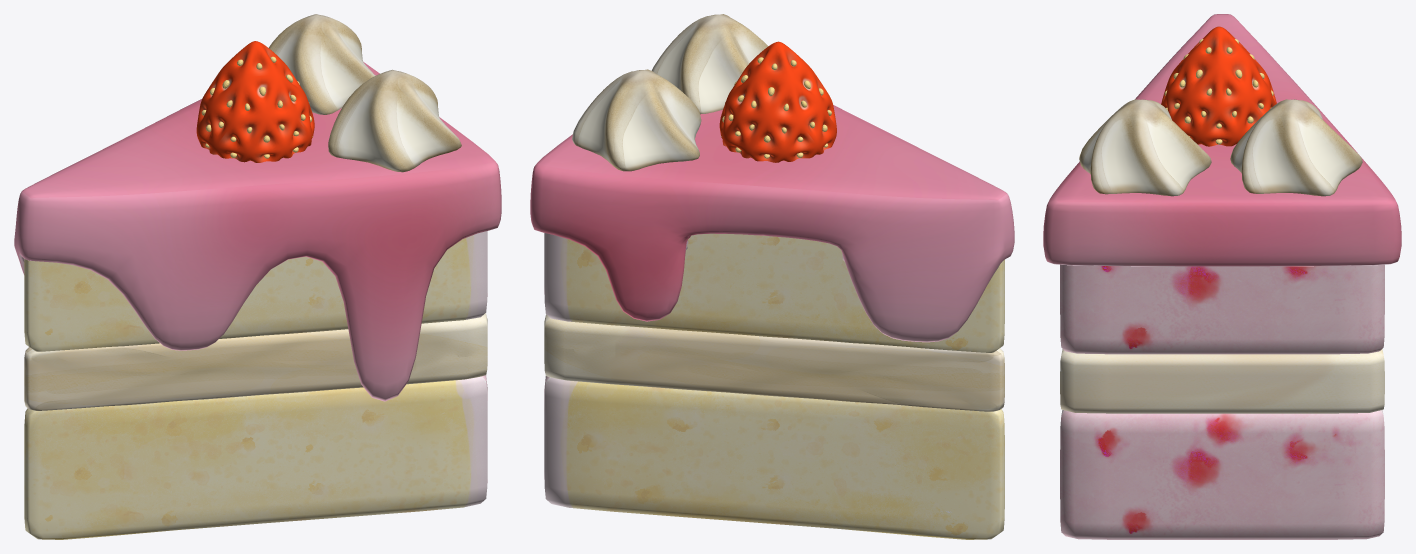
The model's file is straeberrycreamcake.glb.
The picture shows the model from 3 angles, left to right: view 1: azimuth 30°, elevation 25°; view 2: azimuth 150°, elevation 25°; view 3: azimuth 270°, elevation 25°; orthographic projection.
Parts seen in each view (by area): view 1: 立方體.003, 立方體, 立方體.001, 立方體.004, Ico 球體, Star.001, Star.002, Ico 球體.001; view 2: 立方體.003, 立方體, 立方體.001, 立方體.004, Ico 球體, Star.002, Star.001, Ico 球體.001; view 3: 立方體, 立方體.003, 立方體.004, 立方體.001, Star.001, Star.002, Ico 球體, Ico 球體.001.
Boxes of the visible parts, <box> form: 立方體.003: <box>14,62,501,401</box>; 立方體: <box>24,375,487,539</box>; 立方體.001: <box>24,313,487,410</box>; 立方體.004: <box>24,231,487,351</box>; Ico 球體: <box>196,41,314,162</box>; Star.001: <box>328,69,461,172</box>; Star.002: <box>269,14,375,114</box>; Ico 球體.001: <box>201,56,312,158</box>; 立方體.003: <box>530,105,1014,342</box>; 立方體: <box>544,376,1004,539</box>; 立方體.001: <box>544,314,1004,411</box>; 立方體.004: <box>544,233,1004,352</box>; Ico 球體: <box>719,41,836,162</box>; Star.002: <box>572,69,701,171</box>; Star.001: <box>651,14,768,114</box>; Ico 球體.001: <box>721,57,835,158</box>; 立方體: <box>1060,410,1384,539</box>; 立方體.003: <box>1043,14,1401,266</box>; 立方體.004: <box>1060,264,1384,354</box>; 立方體.001: <box>1060,349,1384,413</box>; Star.001: <box>1079,99,1211,196</box>; Star.002: <box>1230,99,1362,196</box>; Ico 球體: <box>1161,26,1276,146</box>; Ico 球體.001: <box>1164,39,1273,144</box>.
Size of the model in its own units: 26.39 by 27.76 by 20.37.
8 materials, 8 textured.
